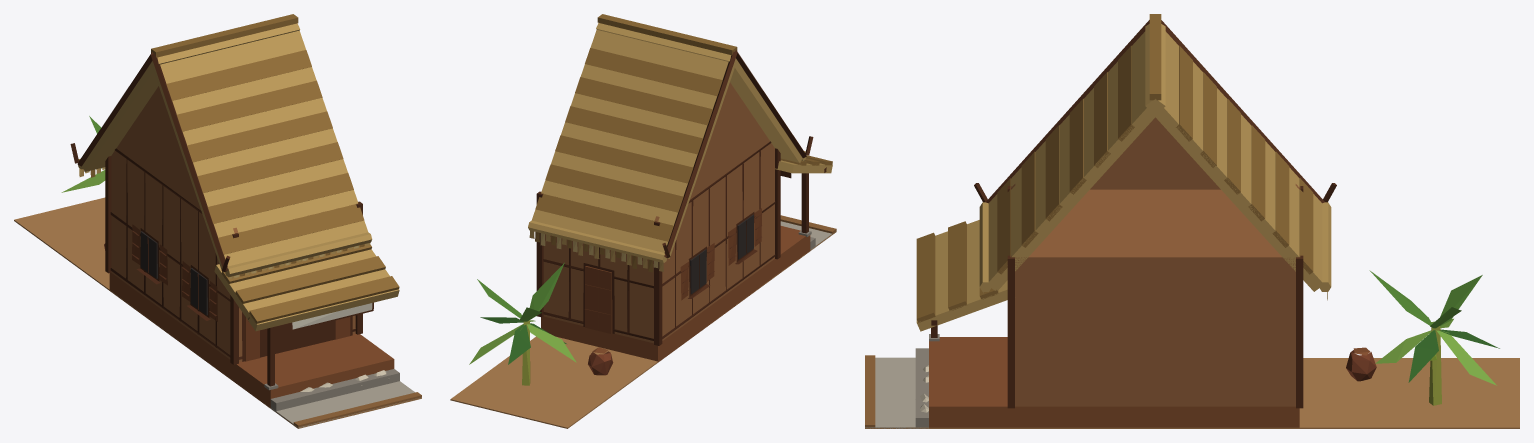
The model's file is bay2_left.glb.
3 views of the same model, side by side, from view 1: azimuth 30°, elevation 25°; view 2: azimuth 150°, elevation 25°; view 3: azimuth 270°, elevation 25° (orthographic). The views are drawn at different scales.
Parts seen in each view (by area): view 1: body, windows; view 2: body, windows; view 3: body.
Boxes of the visible parts, x1=… form: body: x1=14, y1=14, x2=421, y2=428; windows: x1=140, y1=231, x2=207, y2=315; body: x1=450, y1=14, x2=836, y2=428; windows: x1=690, y1=214, x2=753, y2=294; body: x1=865, y1=14, x2=1519, y2=428.
Bounding box in the file's own units: 5.33 × 8.98 × 15.9.
